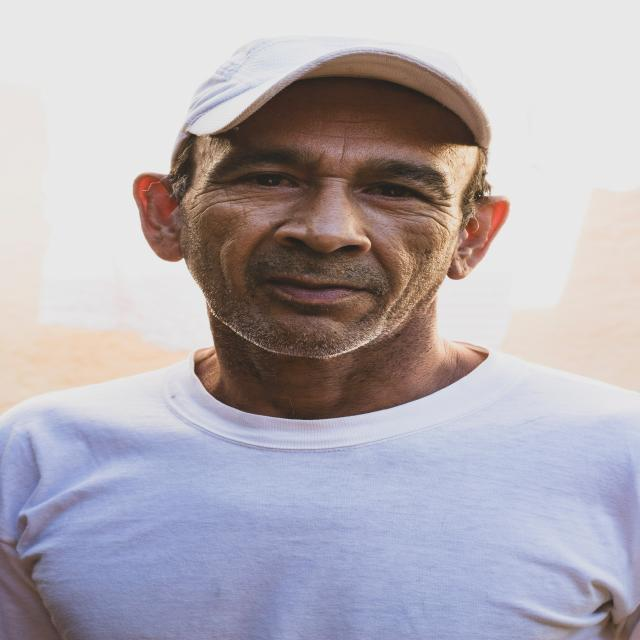Wrinkles: (280, 129, 411, 144), (400, 209, 450, 232), (194, 187, 227, 197), (389, 215, 423, 223), (437, 209, 459, 220), (193, 206, 210, 219), (329, 119, 387, 122), (341, 129, 346, 162), (222, 200, 235, 202)
